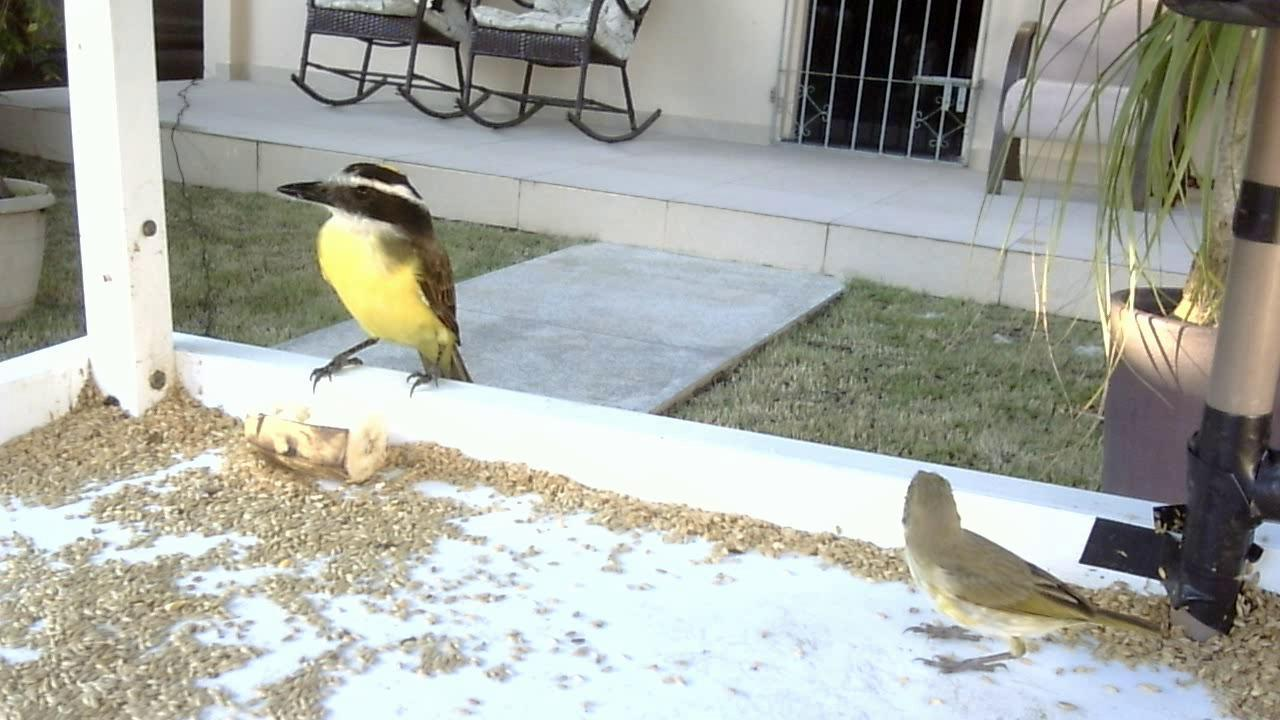bem_te_vi: (266, 155, 479, 409)
canario_do_amazonas: (889, 474, 1188, 685)
